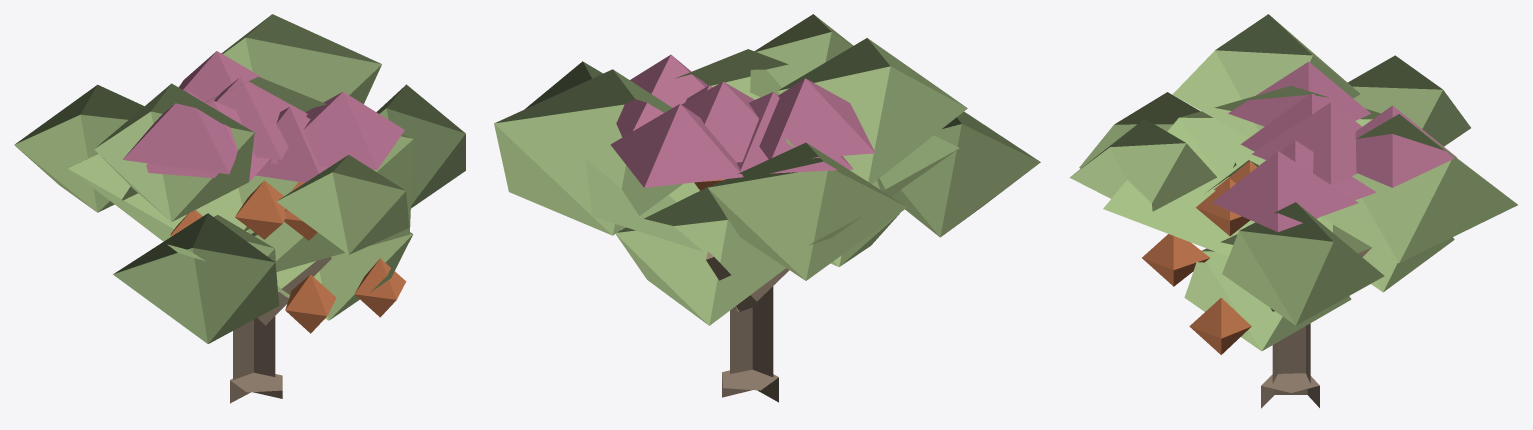
Rendered from tree.sub.citrus__bloom.glb.
3 views of the same model, side by side, from view 1: azimuth 30°, elevation 25°; view 2: azimuth 150°, elevation 25°; view 3: azimuth 270°, elevation 25° (orthographic). The views are drawn at different scales.
Parts seen in each view (by area): view 1: tree.sub.citrus__bloom; view 2: tree.sub.citrus__bloom; view 3: tree.sub.citrus__bloom.
Boxes of the visible parts, box(x1,y1,x2,y2) form: tree.sub.citrus__bloom: box(14, 14, 465, 403); tree.sub.citrus__bloom: box(494, 14, 1040, 402); tree.sub.citrus__bloom: box(1069, 14, 1517, 408).
Size of the model in its own units: 5.84 by 5.06 by 5.98.
